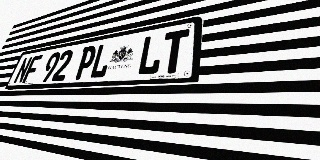2: (51, 49, 74, 81)
9: (39, 51, 62, 82)
F: (22, 55, 43, 83)
L: (136, 33, 165, 76), (88, 42, 114, 79)
N: (12, 56, 33, 84)
P: (73, 45, 98, 80)
T: (159, 29, 190, 74)
